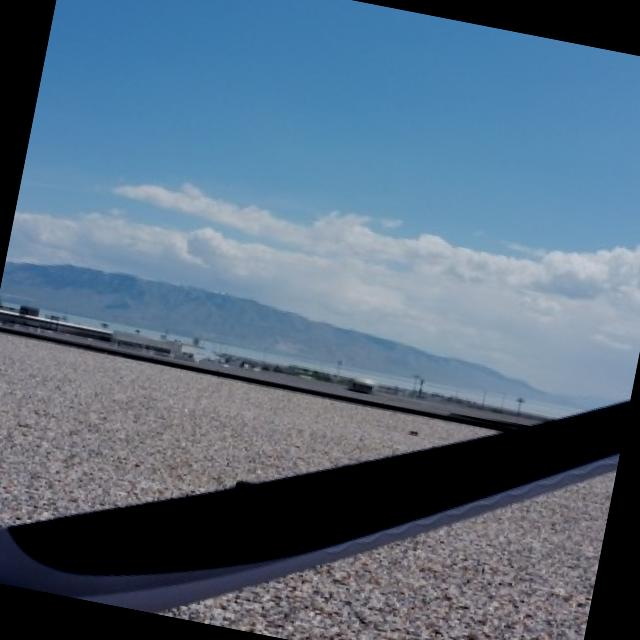healthy: (0, 400, 630, 612)
